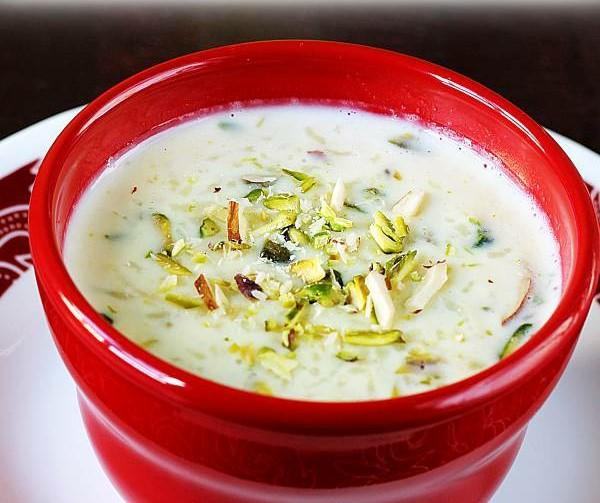Kheer: (62, 106, 564, 403)
